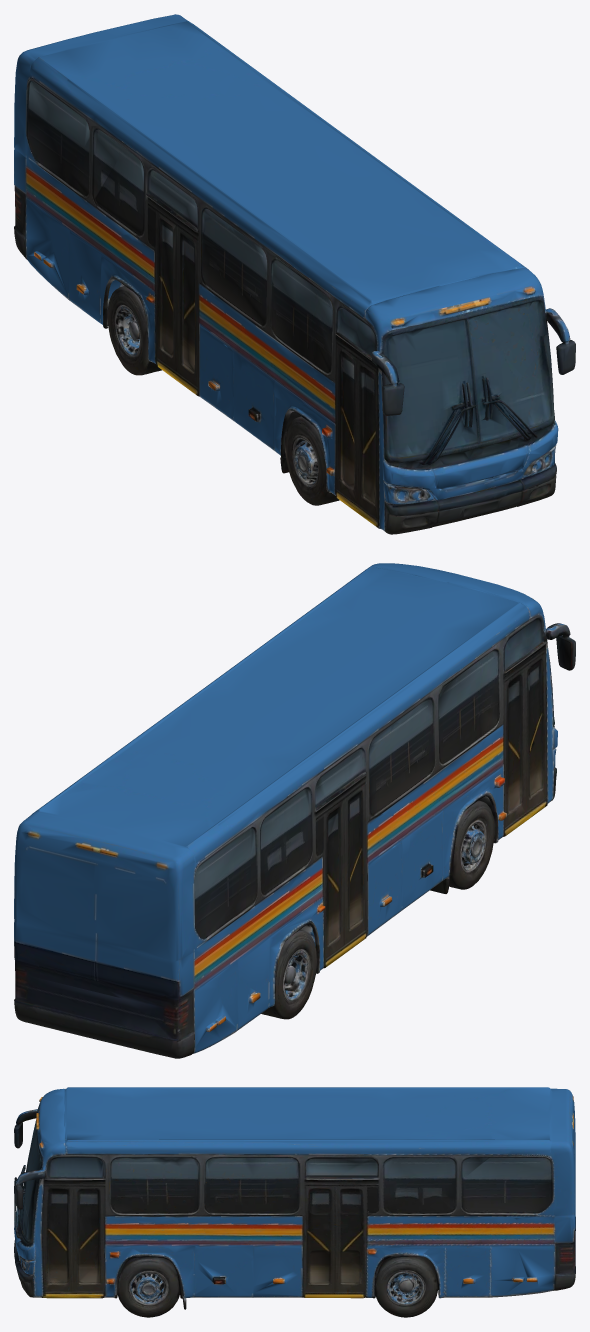
The model's file is car-bus-blue-v3.glb.
3 renders of one model, top to bottom at view 1: azimuth 30°, elevation 25°; view 2: azimuth 150°, elevation 25°; view 3: azimuth 270°, elevation 25°, orthographic. The views are drawn at different scales.
Visible parts, largest first — view 1: node_0; view 2: node_0; view 3: node_0.
Boxes of the visible parts, x1,y1,x2,y2 form: node_0: (14, 14, 575, 534); node_0: (14, 563, 575, 1058); node_0: (14, 1087, 575, 1317).
Size of the model in its own units: 0.324 by 0.3901 by 1.13.
Materials: 1 (1 with a texture image).
